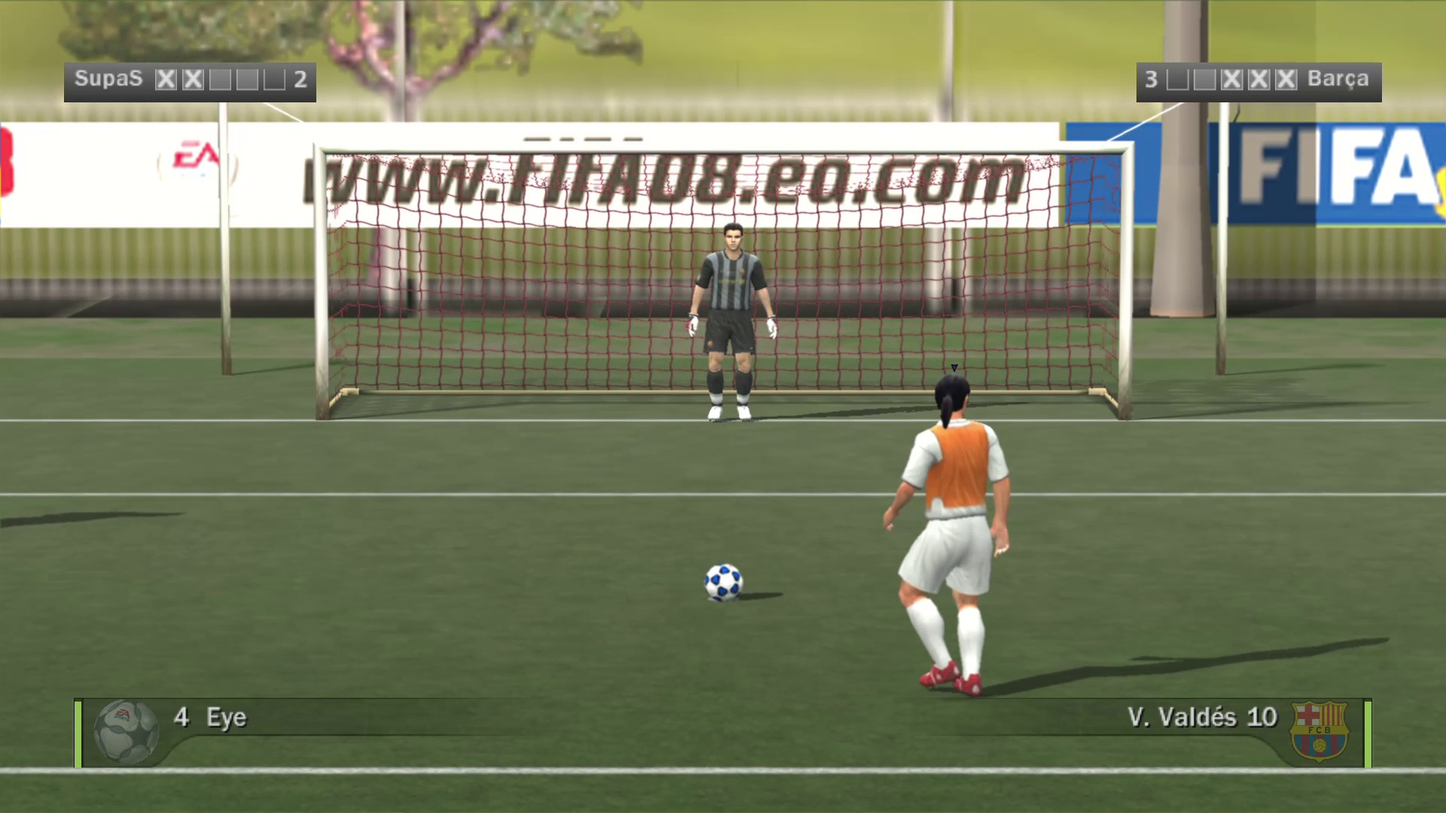ball: (684, 541, 725, 580)
goal_post: (0, 34, 717, 284)
keeper: (635, 125, 734, 321)
kicker: (794, 199, 948, 532)
